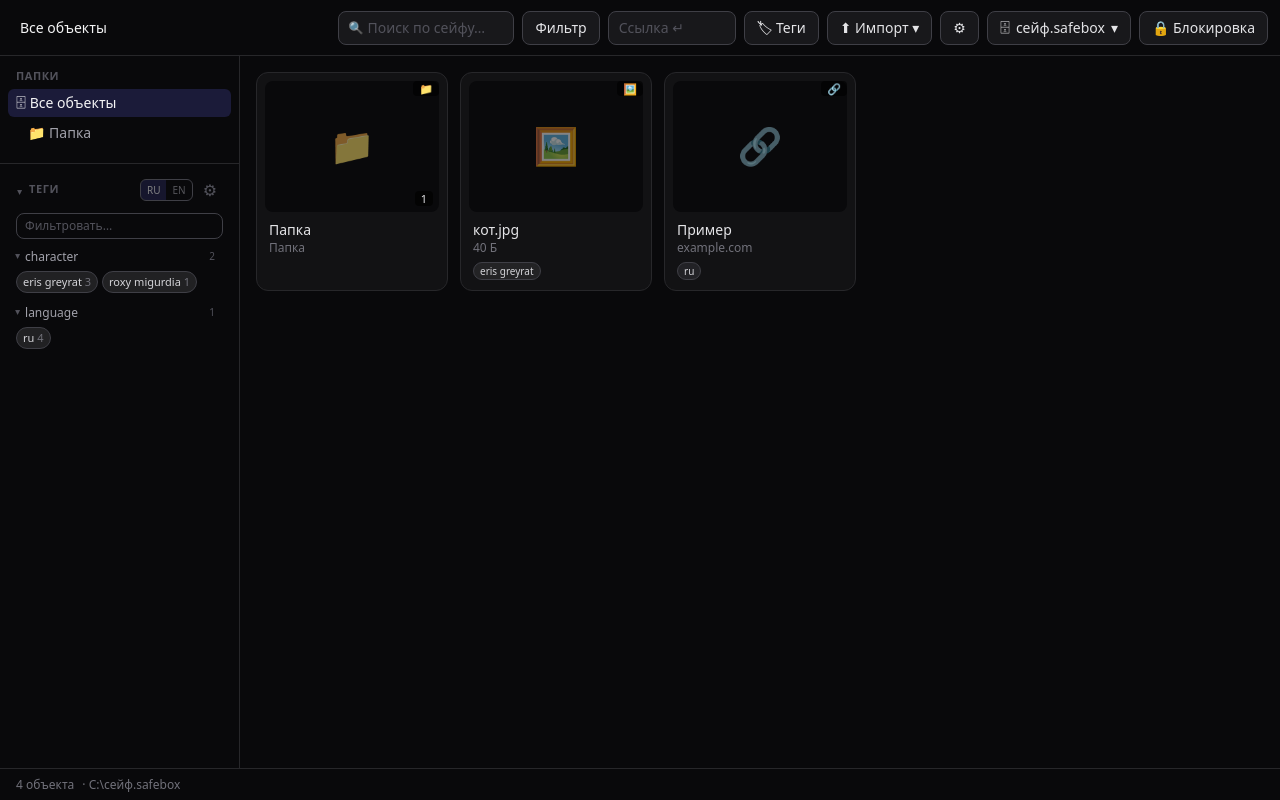
it: теги на карточках и в панели свойств › клик по тегу в панели свойств - тот же фильтр
Expected: the text "кот.jpg" is shown, [473,220,519,240]
Right-click the element showing "🖼️ 🖼️ кот.jpg 40 Б eris greyrat": (556, 181) [460,72,652,290]
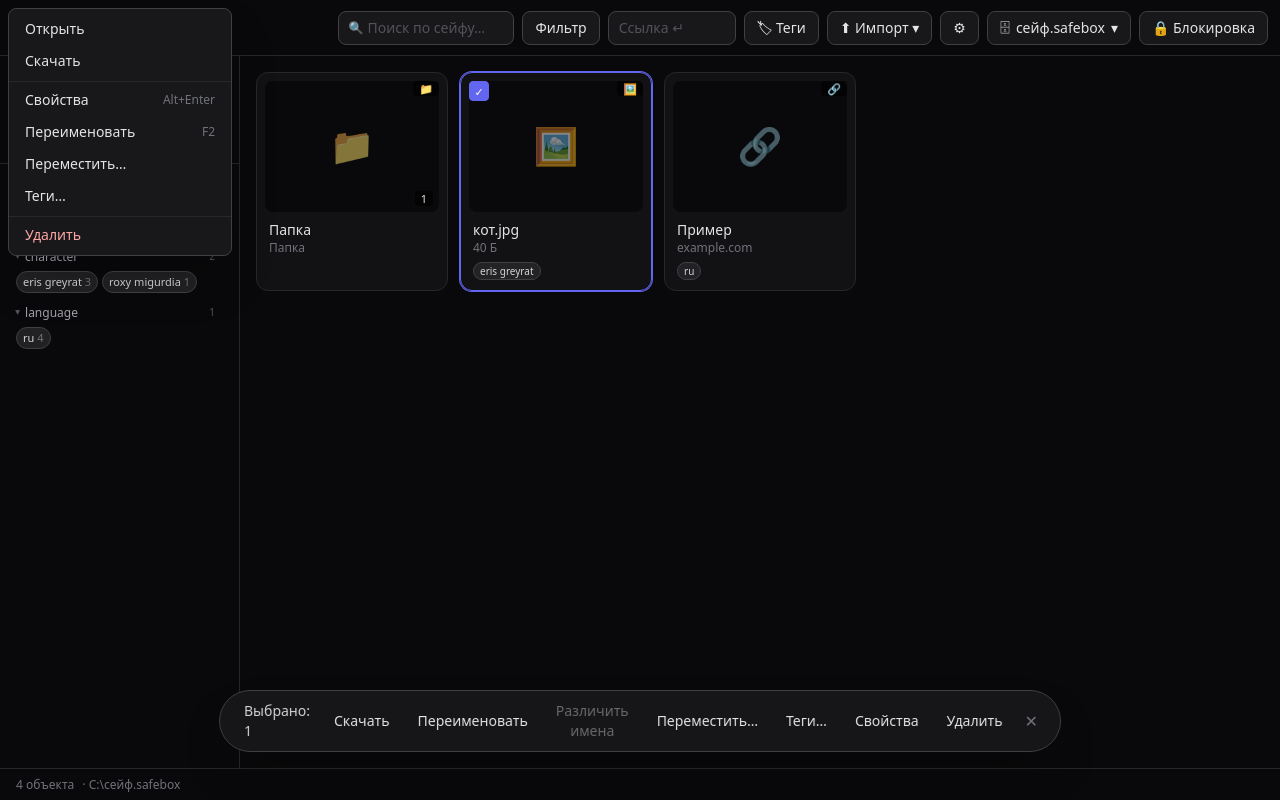
Click the menu item "Теги…": (120, 196) [9,180,231,212]
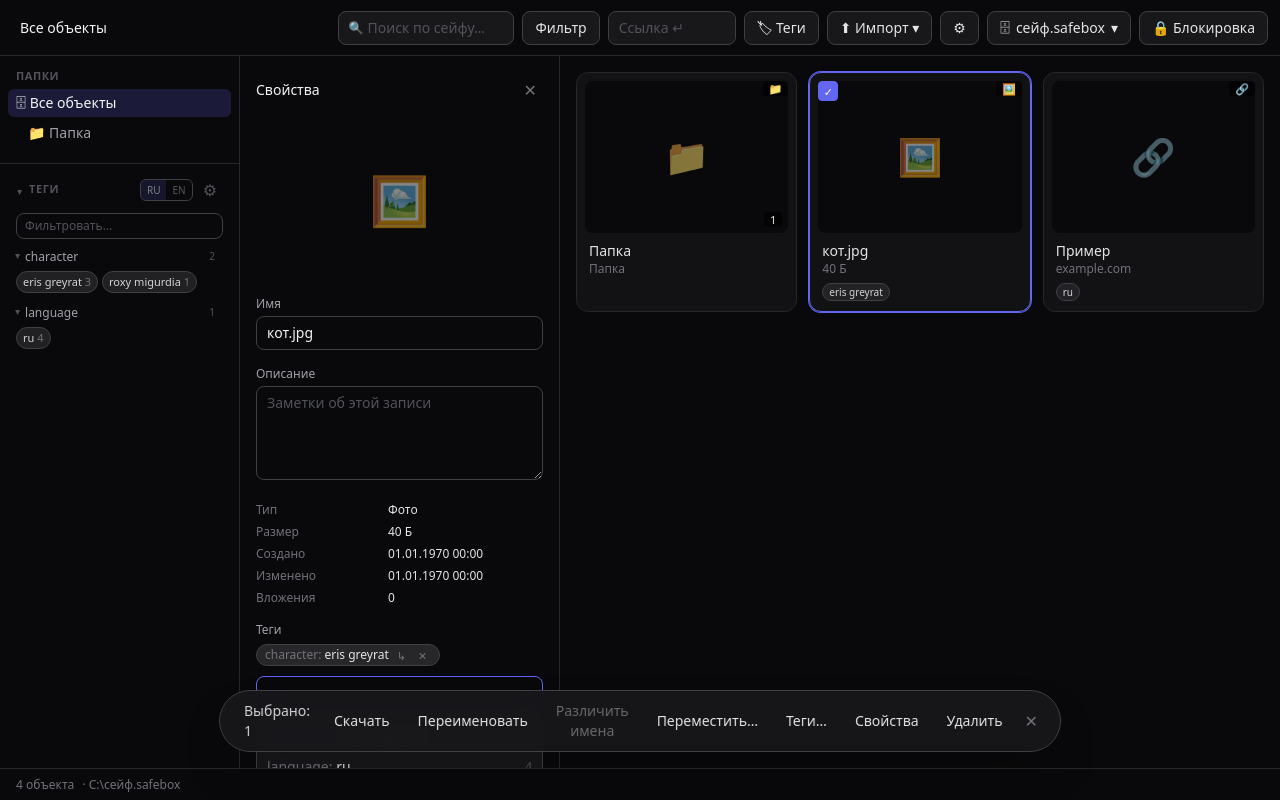
Click the button "character: eris greyrat": (327, 655) [265,647,389,663]
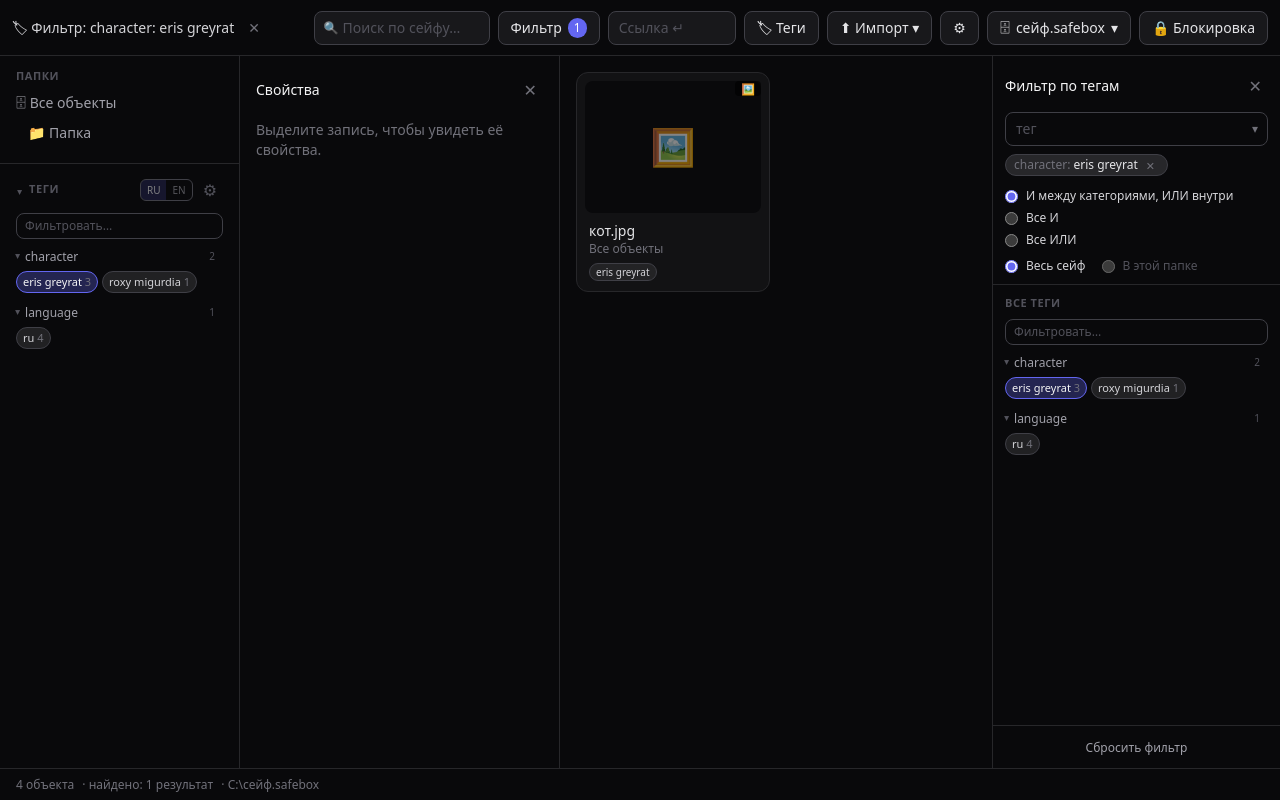
Now the element "Фильтр по тегам" is shown, box [992,56,1279,768]
